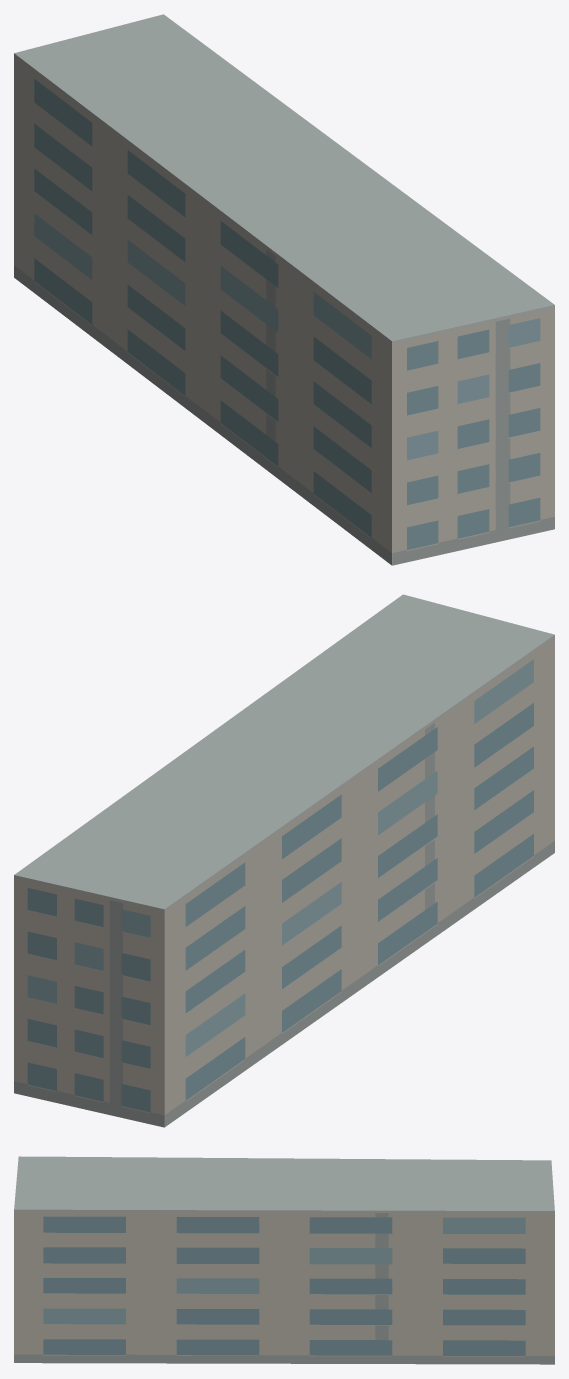
File: residential-2b50f568-9d4f-4620-b20b-1add30e982d6.glb
3 renders of one model, top to bottom at view 1: azimuth 30°, elevation 25°; view 2: azimuth 150°, elevation 25°; view 3: azimuth 270°, elevation 25°, orthographic. The views are drawn at different scales.
Visible parts, largest first — view 1: residential-2b50f568-9d4f-4620-b20b-1add30e982d6.tmp; view 2: residential-2b50f568-9d4f-4620-b20b-1add30e982d6.tmp; view 3: residential-2b50f568-9d4f-4620-b20b-1add30e982d6.tmp.
Boxes of the visible parts, x1,y1,x2,y2 form: residential-2b50f568-9d4f-4620-b20b-1add30e982d6.tmp: (14,14,554,565); residential-2b50f568-9d4f-4620-b20b-1add30e982d6.tmp: (14,594,554,1127); residential-2b50f568-9d4f-4620-b20b-1add30e982d6.tmp: (14,1156,554,1364).
Bounding box in the file's own units: 11.66 × 15.25 × 48.75.
